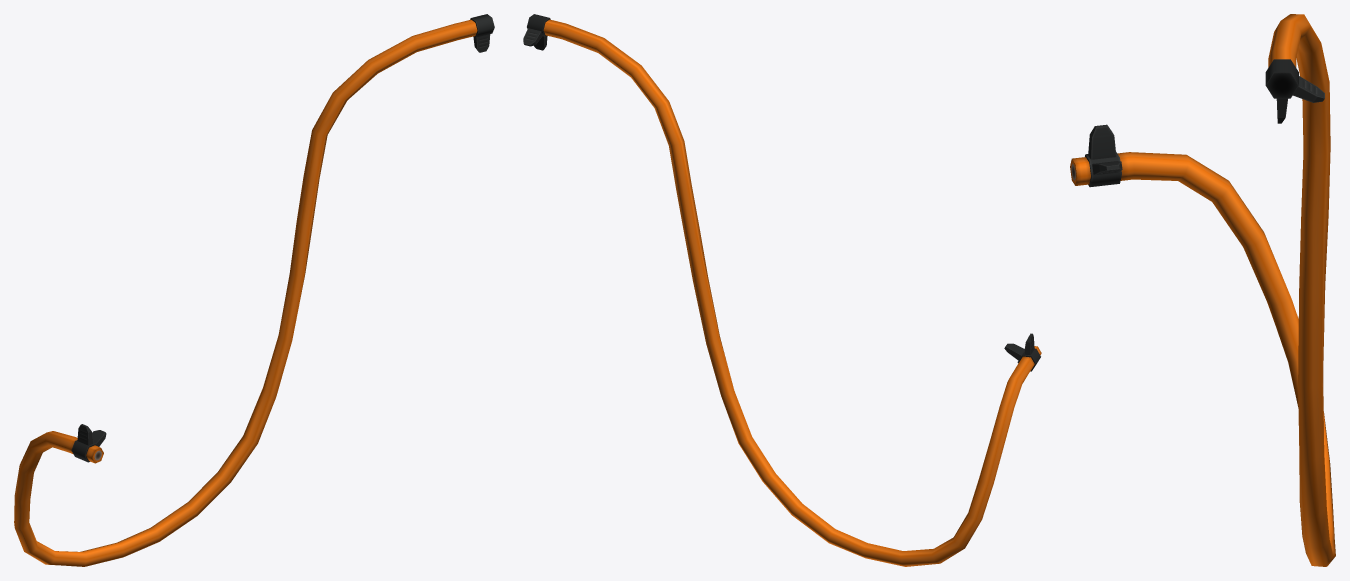
File: jsf_GasRange_02d.fbx
The picture shows the model from 3 angles, left to right: view 1: azimuth 30°, elevation 25°; view 2: azimuth 150°, elevation 25°; view 3: azimuth 270°, elevation 25°; orthographic projection. The views are drawn at different scales.
Visible parts, largest first — view 1: GasHose; view 2: GasHose; view 3: GasHose.
Boxes of the visible parts, <box> form: GasHose: <box>14,14,494,566</box>; GasHose: <box>523,14,1041,566</box>; GasHose: <box>1070,14,1335,566</box>.
Size of the model in its own units: 58.13 by 53.72 by 16.95.
